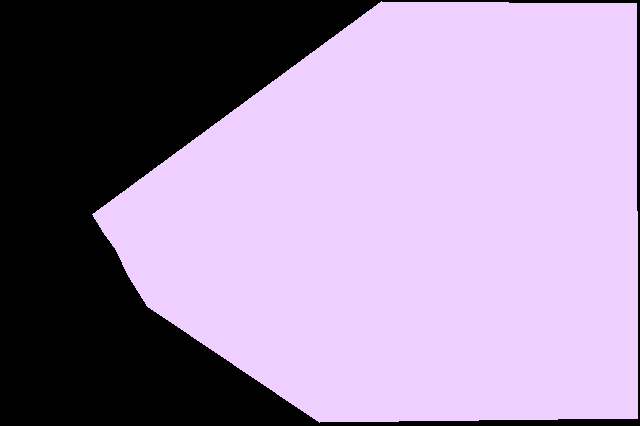Train: (92, 1, 637, 422)
